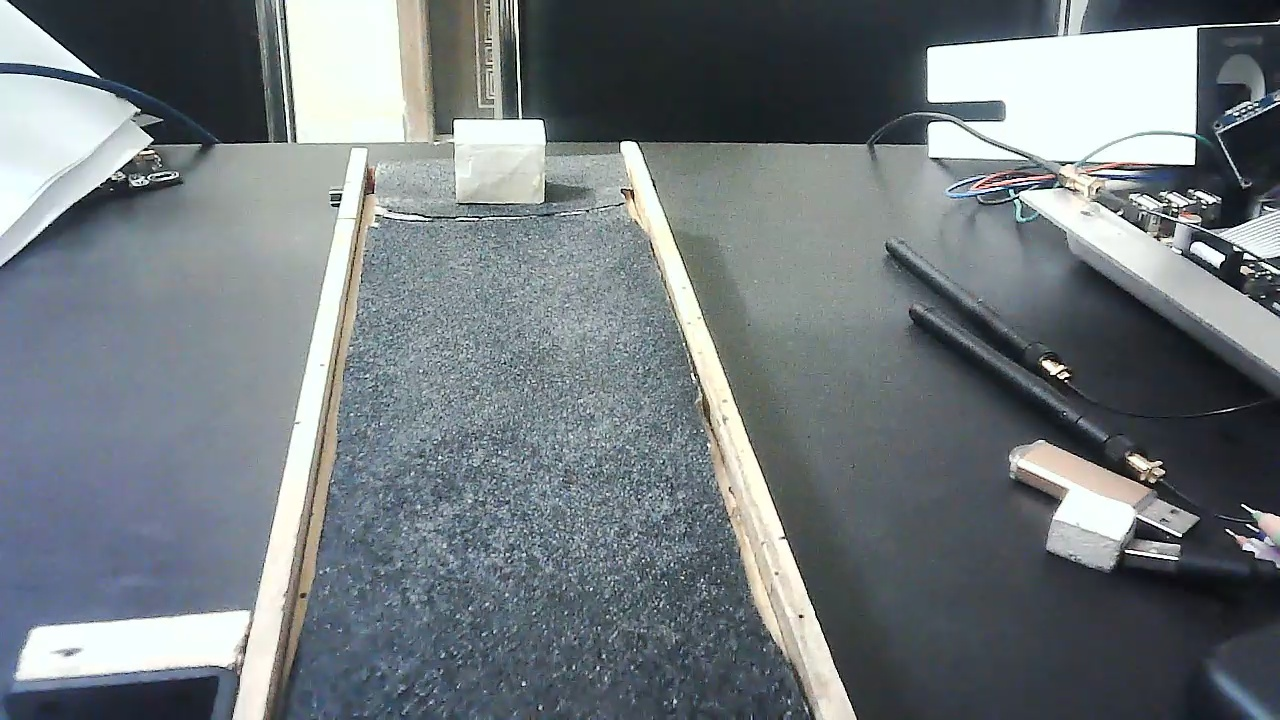Medium: (455, 116, 545, 206)
